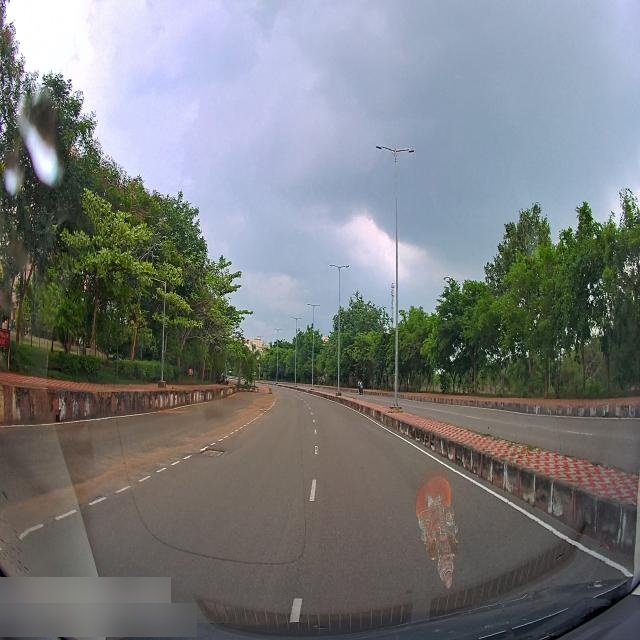pothole: (202, 438, 228, 458)
